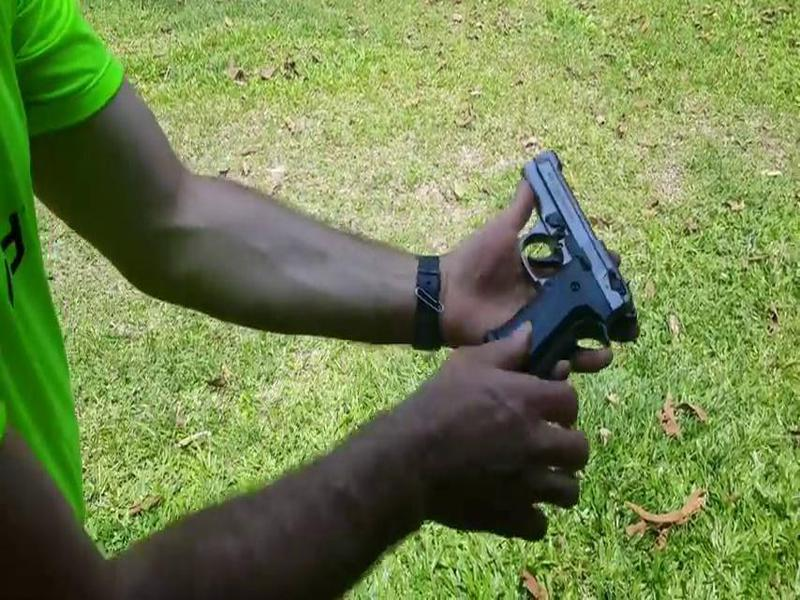Pistola: (469, 148, 649, 366)
